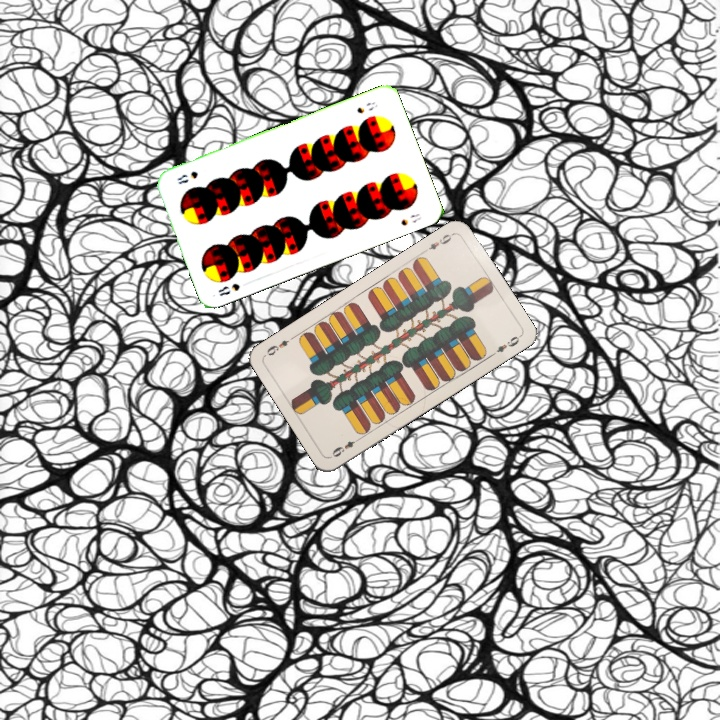E9: (327, 433, 363, 460), (420, 229, 456, 255)
S8: (214, 279, 242, 299), (353, 98, 380, 116)
